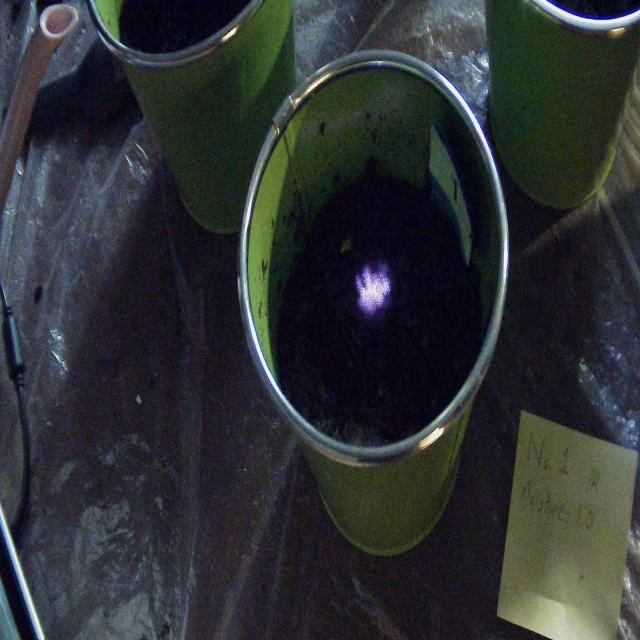soil-moisture-1.0: (355, 262, 391, 315)
